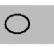no answer: (3, 12, 34, 34)
